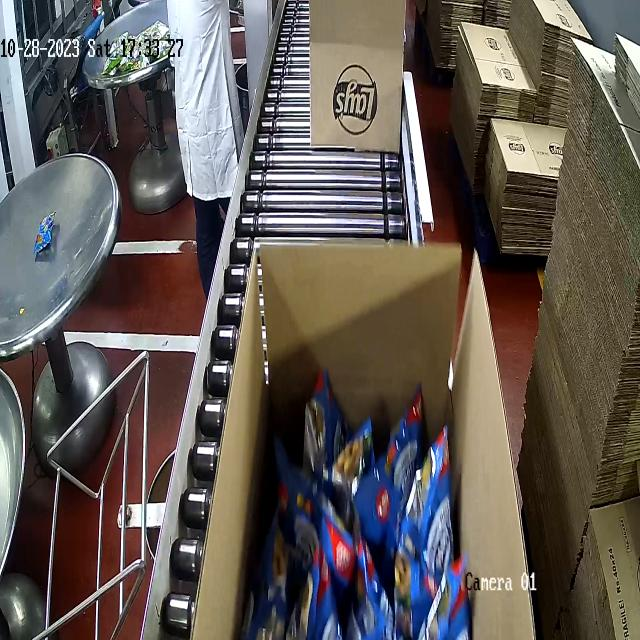PAPRIKA: (249, 357, 497, 640)
